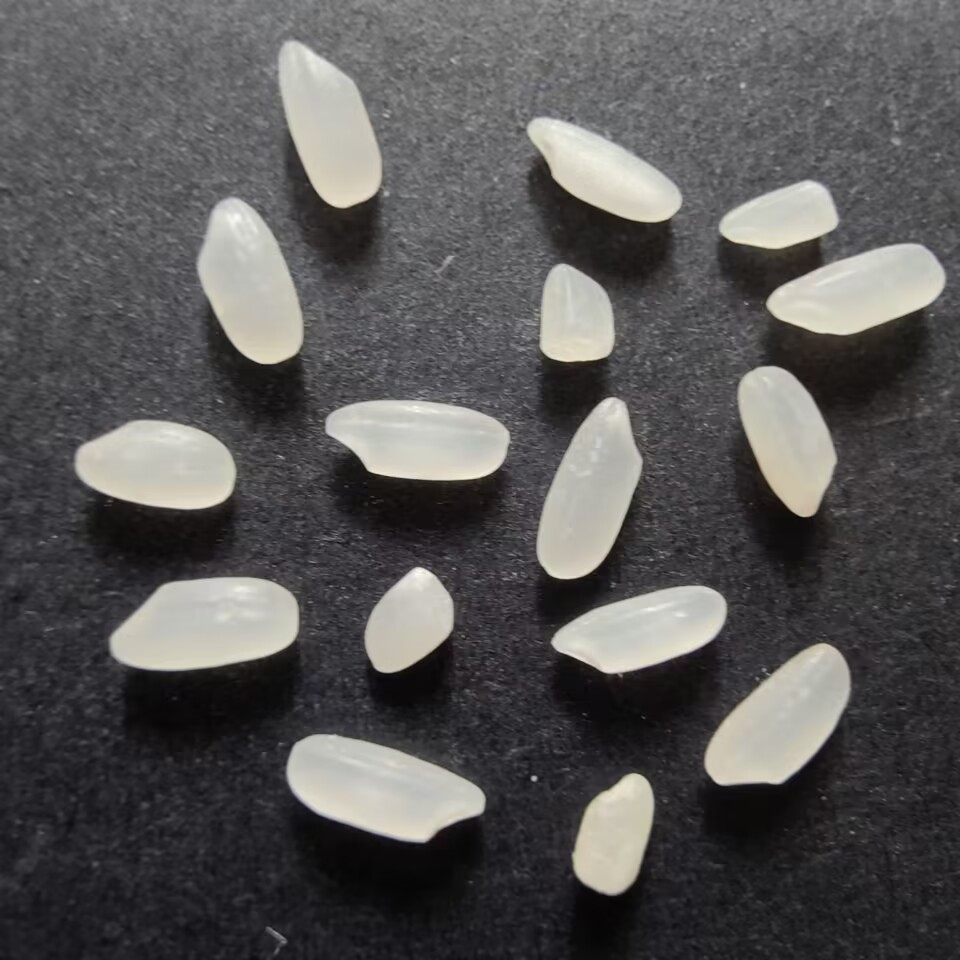broken: (569, 768, 657, 897), (361, 563, 460, 677), (716, 176, 844, 248), (534, 260, 622, 362)
rice: (283, 730, 489, 847), (701, 638, 856, 789), (532, 392, 651, 583), (103, 573, 306, 675), (193, 193, 310, 367), (271, 35, 383, 209), (525, 111, 686, 227), (763, 238, 947, 336), (67, 413, 241, 513), (548, 581, 728, 677), (734, 363, 841, 524), (320, 395, 512, 484)
